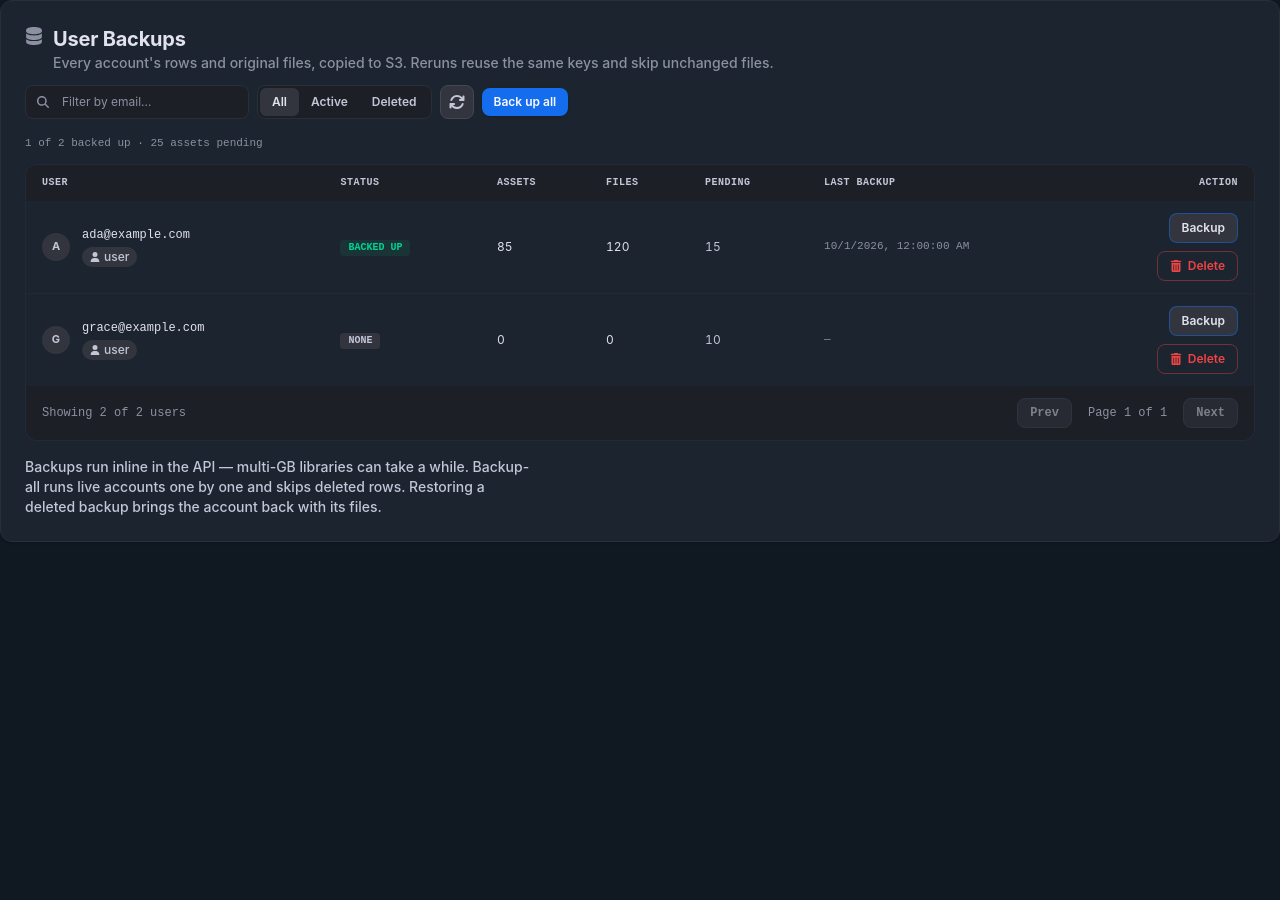
Scenario: BackupSection table › backs up all users sequentially and finishes with a summary toast
Expected: the text "ada@example.com" is shown, [82,226,190,242]
Expected: the text "grace@example.com" is shown, [82,320,204,336]
Click the button with aria-label "Back up all users": (525, 102) [482,88,568,116]
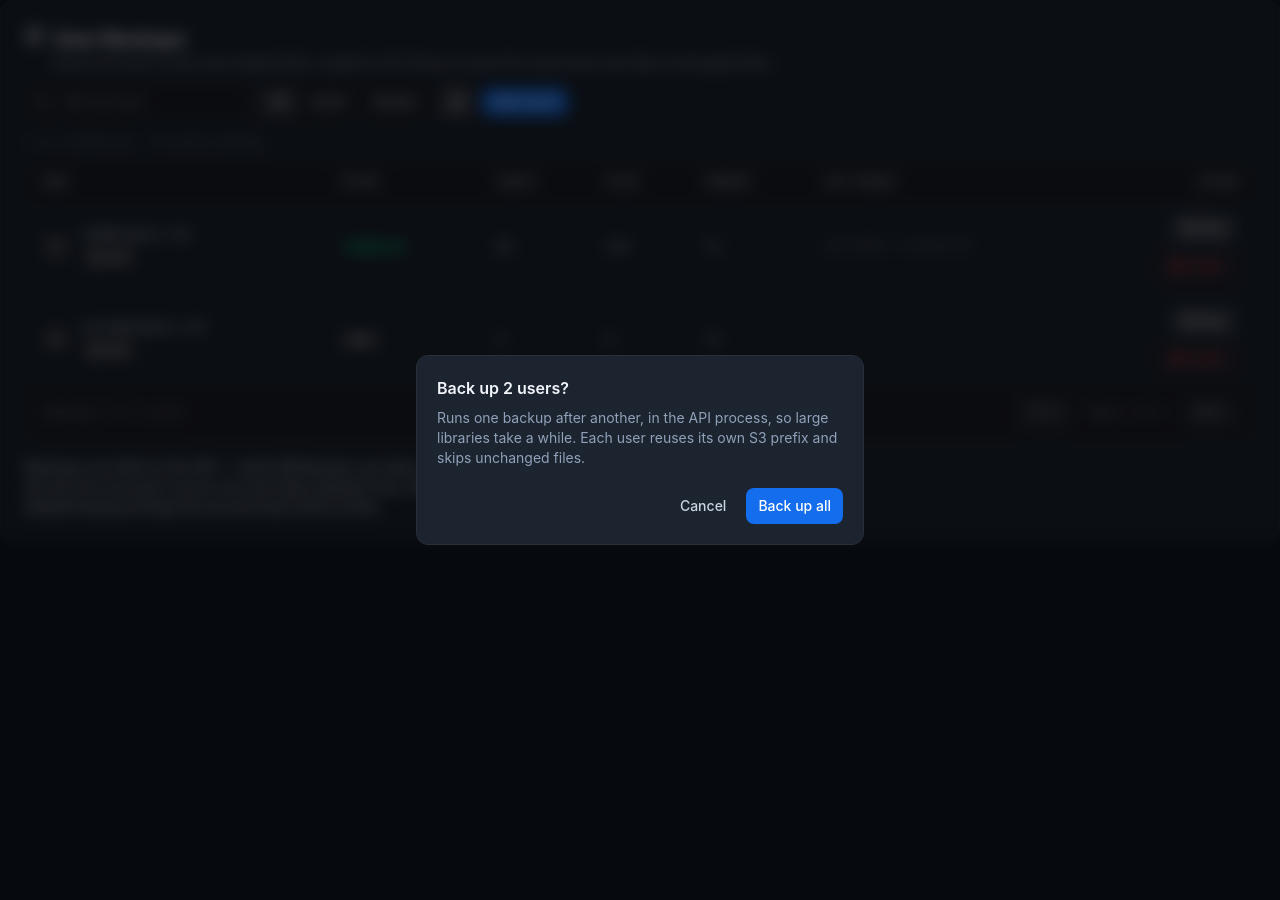
Result: the heading "Back up 2 users?" is shown at [437,378,569,398]
Click the button "Back up all": (795, 506) [746,488,843,524]
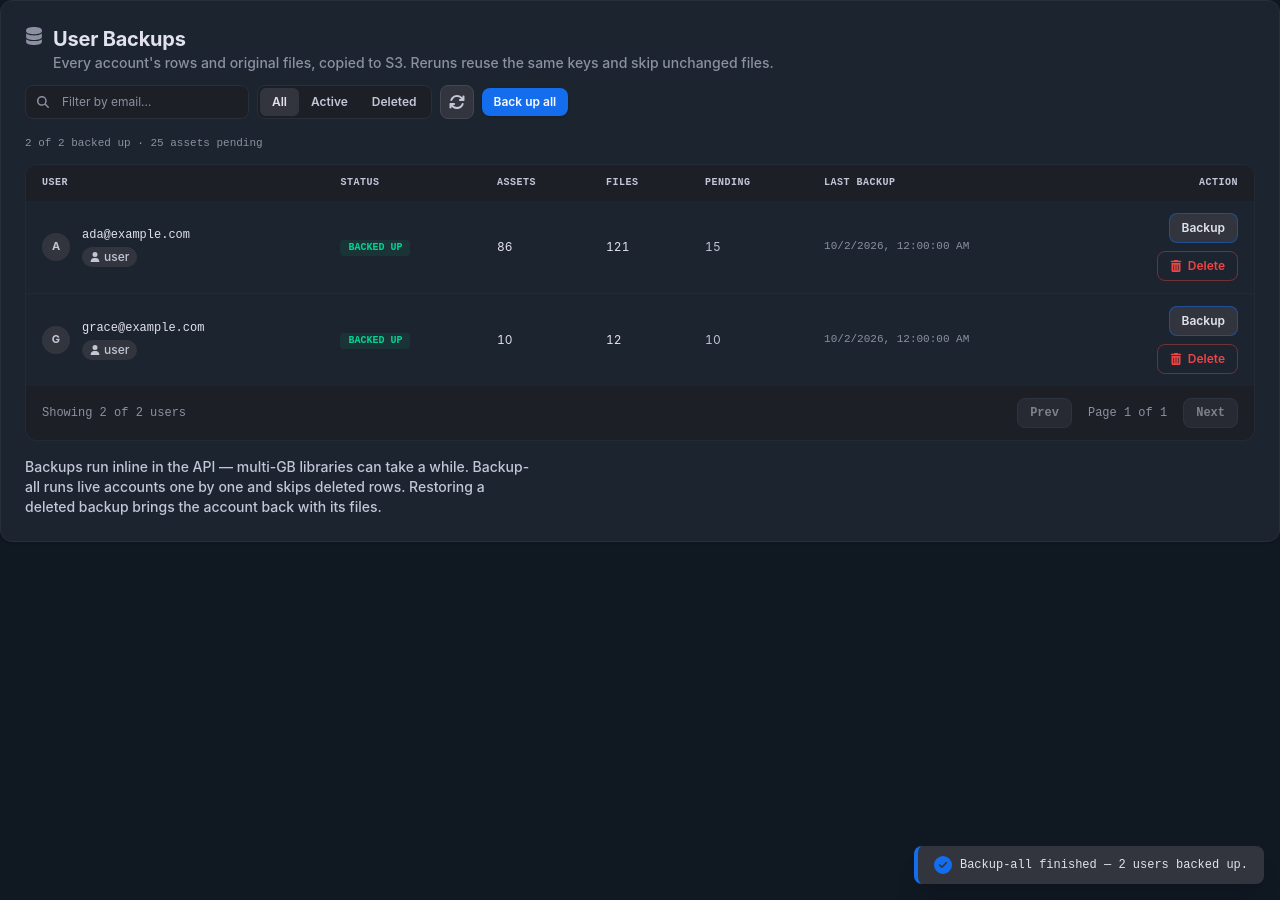
Result: the text "Backup-all finished — 2 users backed up." is shown at [960,857,1248,873]
